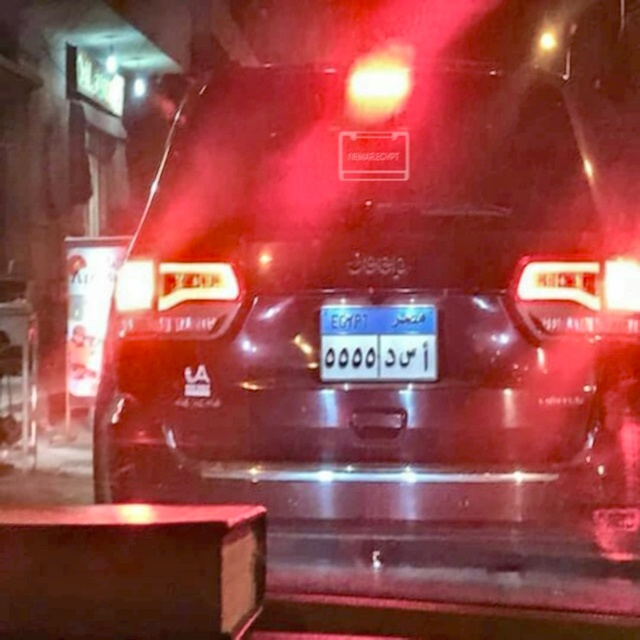License Plate: (316, 299, 440, 386)
